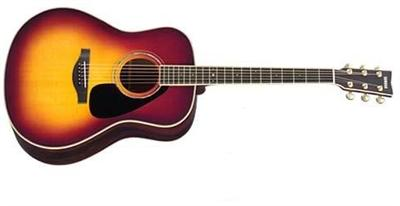guitar: (4, 7, 393, 163)
